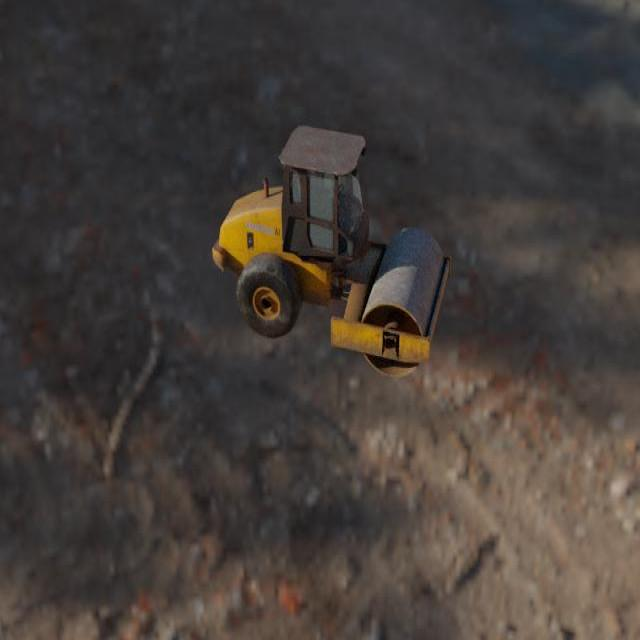Roller: (212, 124, 451, 377)
